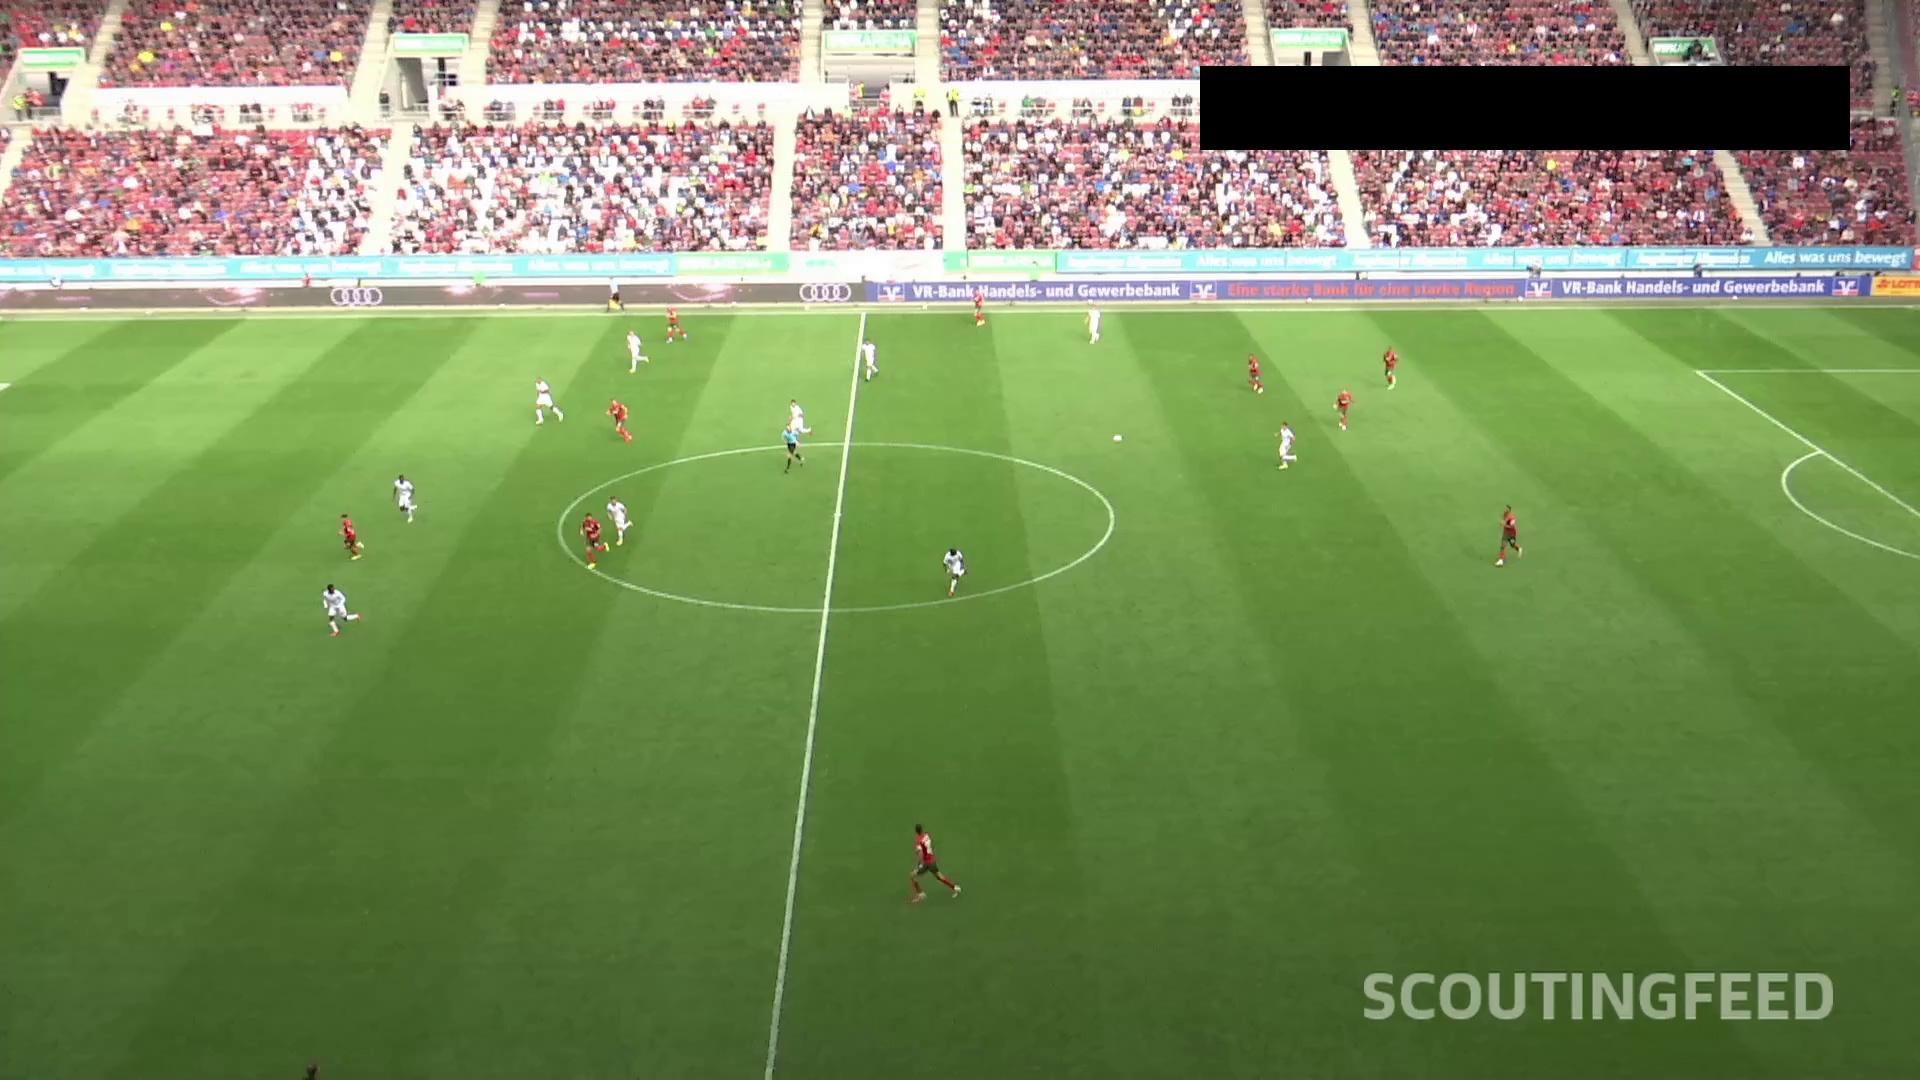Location-of-ball: (1105, 418, 1141, 450)
